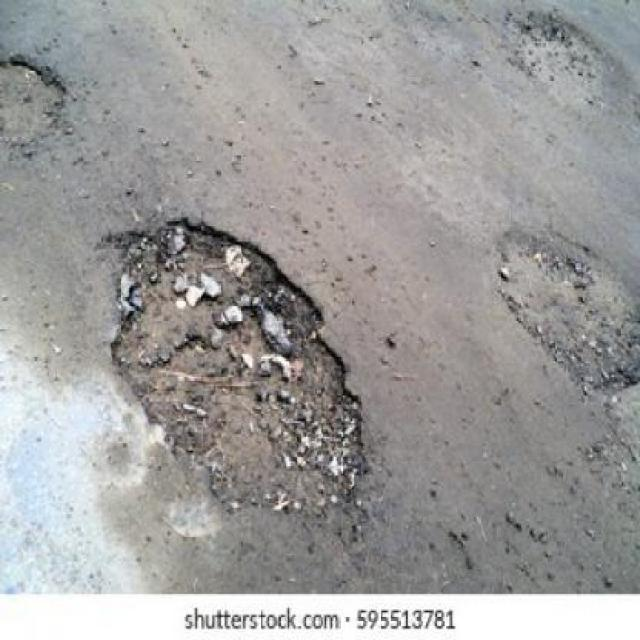Pothole: (108, 214, 366, 520), (496, 224, 638, 396), (504, 7, 634, 115), (0, 54, 69, 152)
